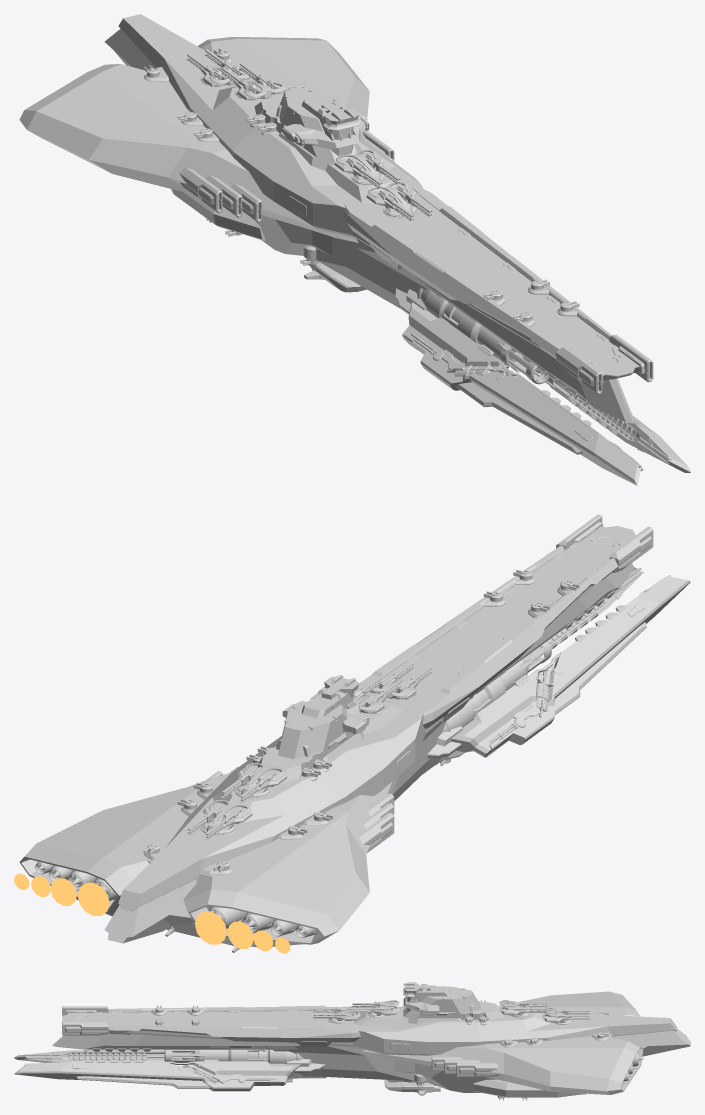
Rendered from dreadnought_game.glb.
3 views of the same model, one above another, from view 1: azimuth 30°, elevation 25°; view 2: azimuth 150°, elevation 25°; view 3: azimuth 270°, elevation 25° (orthographic). The views are drawn at different scales.
Parts seen in each view (by area): view 1: dreadnought_game; view 2: dreadnought_game; view 3: dreadnought_game.
Part boxes in pixels (x1,y1,x2,y2): dreadnought_game: [19, 14, 690, 485]; dreadnought_game: [14, 514, 690, 953]; dreadnought_game: [14, 982, 690, 1100].
Size of the model in its own units: 143 by 74.35 by 435.
